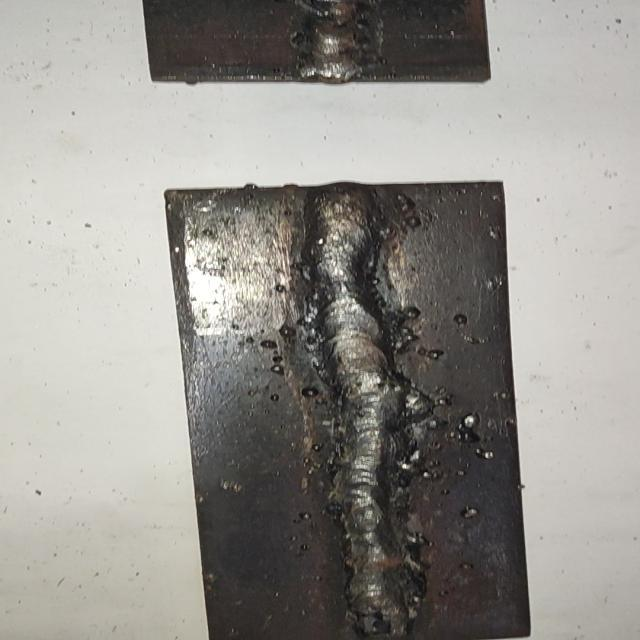Defect: (301, 366, 443, 438), (302, 0, 368, 75)
Welding Line: (316, 190, 405, 638)
Workpiece: (162, 179, 526, 640), (138, 0, 497, 87)
